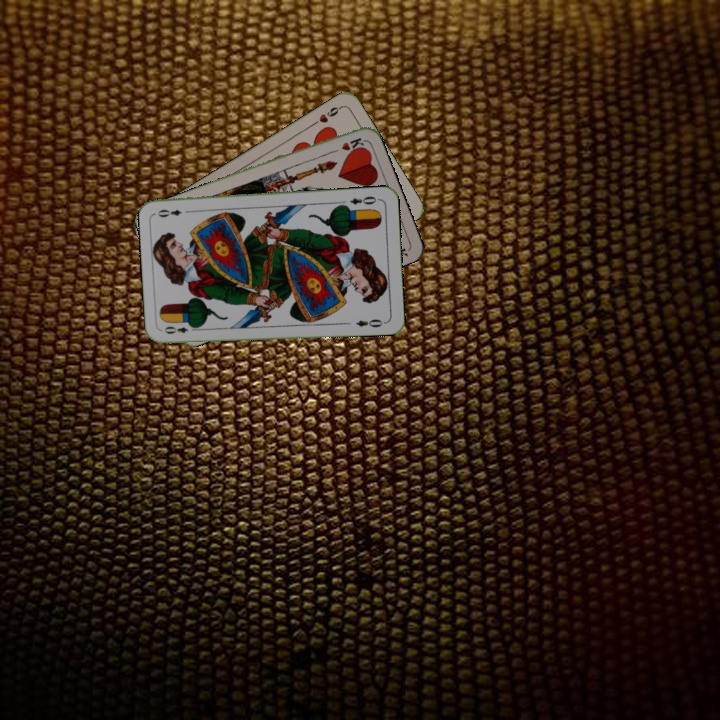EO: (161, 320, 200, 337), (346, 192, 382, 207)
H9: (308, 102, 344, 128)
HK: (326, 134, 366, 156)
